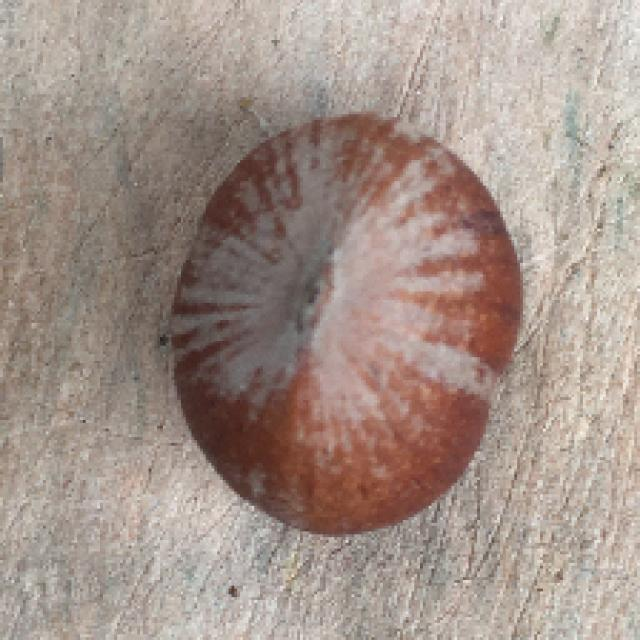qualityHazelnut: (162, 97, 522, 538)
